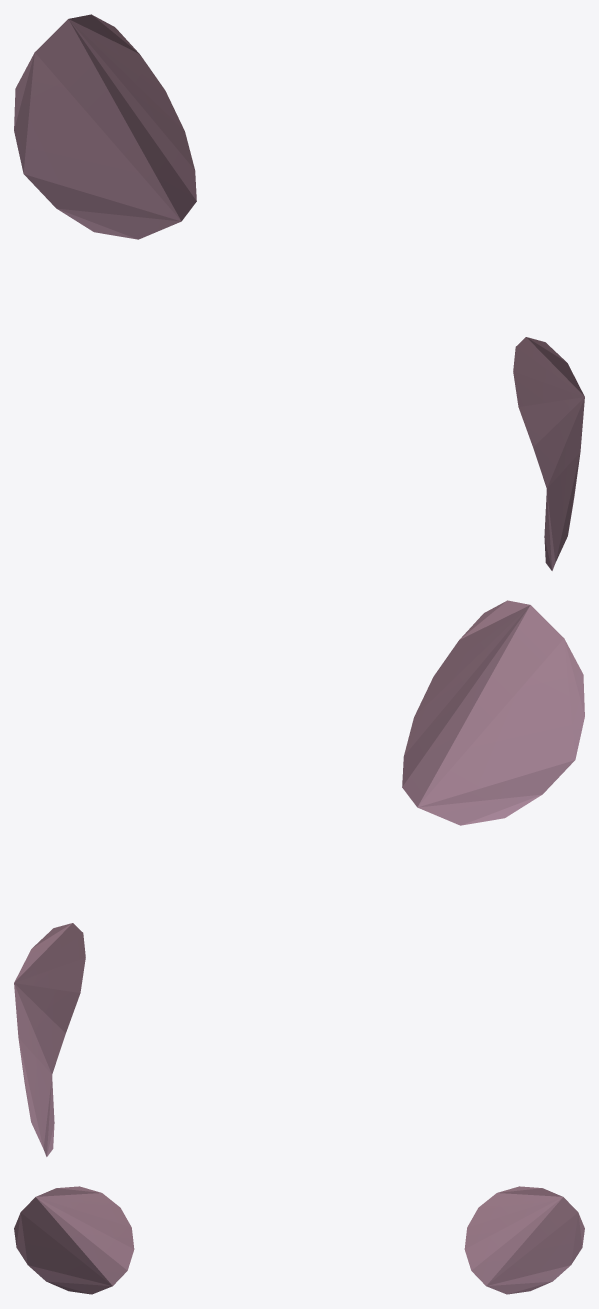
The model's file is ROSY CHEEKS.fbx.
The picture shows the model from 3 angles, top to bottom: view 1: azimuth 30°, elevation 25°; view 2: azimuth 150°, elevation 25°; view 3: azimuth 270°, elevation 25°; orthographic projection. The views are drawn at different scales.
Parts seen in each view (by area): view 1: ROSY_CHEEKS; view 2: ROSY_CHEEKS; view 3: ROSY_CHEEKS.
Part boxes in pixels (x1=…): ROSY_CHEEKS: x1=14, y1=14, x2=584, y2=570; ROSY_CHEEKS: x1=14, y1=600, x2=584, y2=1156; ROSY_CHEEKS: x1=14, y1=1186, x2=584, y2=1294.
Size of the model in its own units: 1.34 by 3.58 by 17.23.
